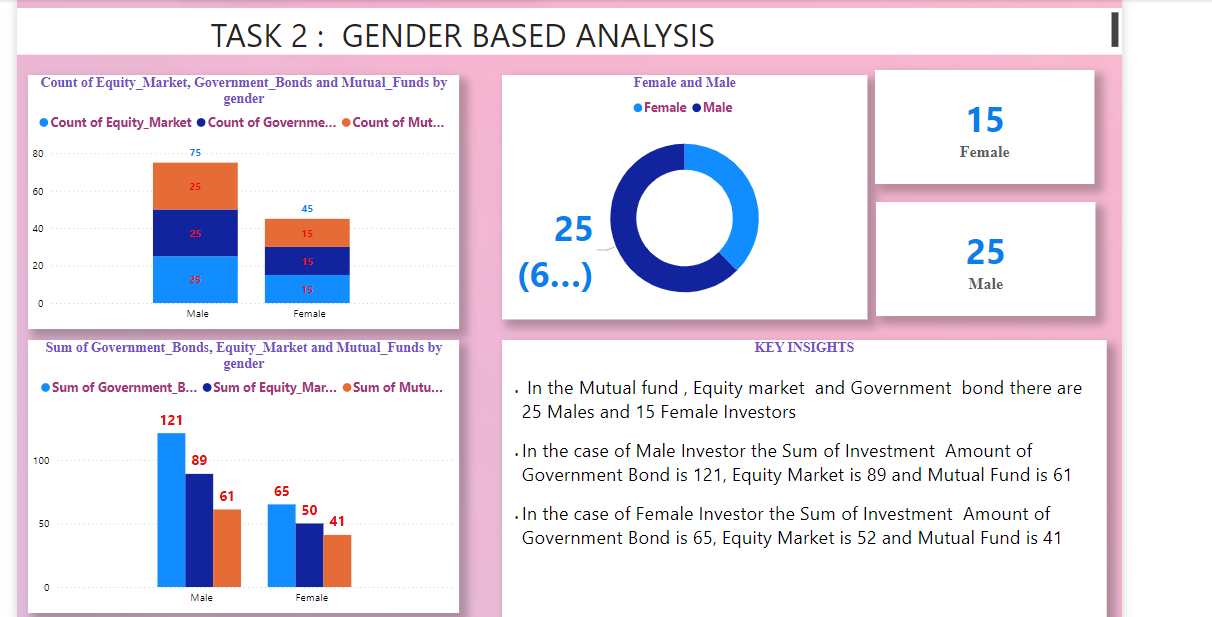

The dashboard page shown, as its layout file describes it:
{"tool":"powerbi","page":{"name":"Task2","canvas":[1280,720],"ordinal":1},"visuals":[{"type":"textbox","box":[0,11,1280.3,53.5],"z":0},{"type":"columnChart","title":"Count of Equity_Market, Government_Bonds and Mutual_Funds by gender","fields":{"Category":["Data_set 2.gender"],"Y":["CountNonNull(Data_set 2.Equity_Market)","CountNonNull(Data_set 2.Government_Bonds)","CountNonNull(Data_set 2.Mutual_Funds)"]},"box":[12.3,87.8,499.5,293.7],"z":1000},{"type":"clusteredColumnChart","title":"Sum of Government_Bonds, Equity_Market and  Mutual_Funds by gender","fields":{"Category":["Data_set 2.gender"],"Y":["Sum(Data_set 2.Government_Bonds)","Sum(Data_set 2.Equity_Market)","Sum(Data_set 2.Mutual_Funds)"]},"box":[12.3,395.2,499.5,315.6],"z":2000},{"type":"donutChart","fields":{"Y":["Data_set 2.Female","Data_set 2.Male"]},"box":[561.2,87.8,422.6,282.7],"z":3000},{"type":"textbox","title":"KEY INSIGHTS","box":[561.2,395.2,699.8,325.2],"z":4000},{"type":"card","fields":{"Values":["Data_set 2.Female"]},"box":[993.5,82.3,253.9,131.7],"z":5000},{"type":"card","fields":{"Values":["Data_set 2.Male"]},"box":[994.9,234.6,253.9,131.7],"z":6000}]}

Visuals, with their boxes on the page's 1280x720 design canvas (x1, y1, x2, y2). These are canvas units, not pixel positions in the 1212x617 screenshot, which may show the page scaled, cropped or inside an application window:
textbox: detection(0, 11, 1280, 64)
"Count of Equity_Market, Government_Bonds and Mutual_Funds by gender" columnChart: detection(12, 88, 512, 382)
"Sum of Government_Bonds, Equity_Market and  Mutual_Funds by gender" clusteredColumnChart: detection(12, 395, 512, 711)
donutChart - Data_set 2.Female x Data_set 2.Male: detection(561, 88, 984, 370)
"KEY INSIGHTS" textbox: detection(561, 395, 1261, 720)
card - Data_set 2.Female: detection(994, 82, 1247, 214)
card - Data_set 2.Male: detection(995, 235, 1249, 366)
